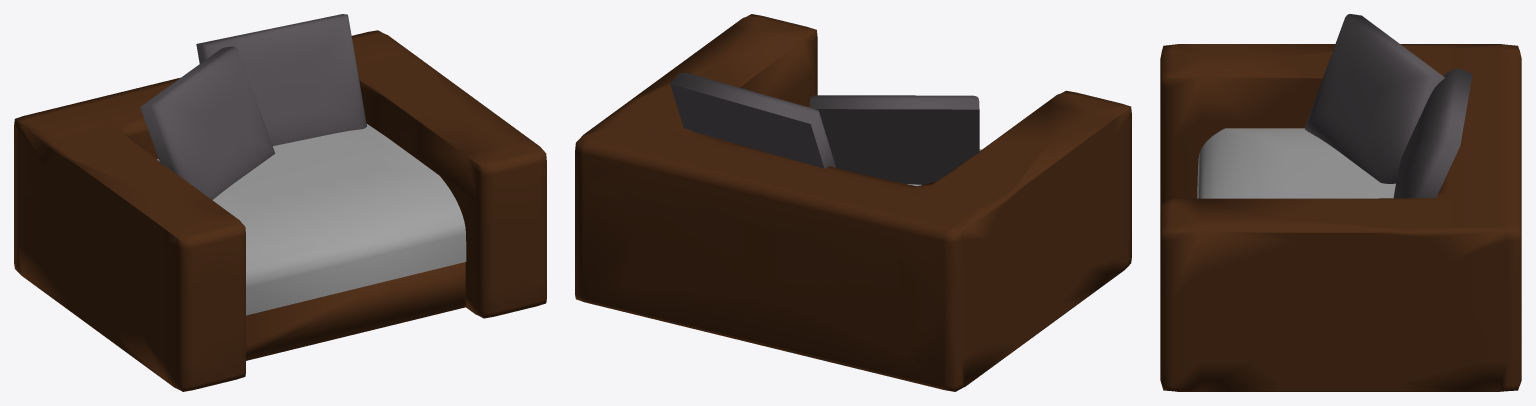
The model's file is SM_Prop_Armchair.fbx.
3 views of the same model, side by side, from view 1: azimuth 30°, elevation 25°; view 2: azimuth 150°, elevation 25°; view 3: azimuth 270°, elevation 25° (orthographic). The views are drawn at different scales.
Visible parts, largest first — view 1: Pontrona5; view 2: Pontrona5; view 3: Pontrona5.
Part boxes in pixels (bbox=[...]): Pontrona5: bbox=[14, 14, 546, 391]; Pontrona5: bbox=[575, 14, 1131, 391]; Pontrona5: bbox=[1160, 14, 1521, 391].
Bounding box in the file's own units: 85.94 × 46.94 × 69.7.
